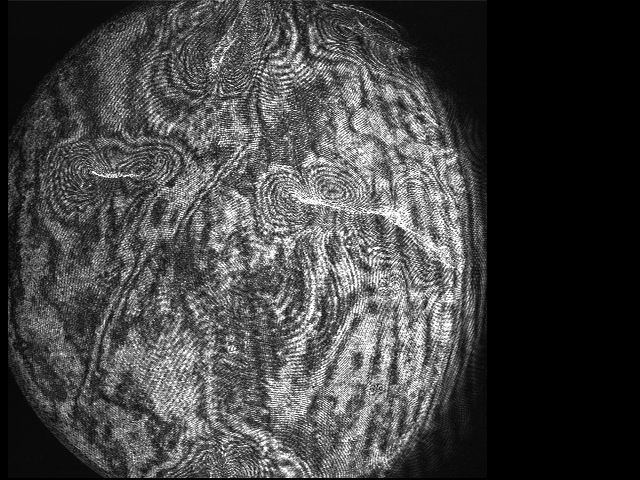plume: (50, 139, 180, 207), (248, 166, 369, 239), (162, 25, 271, 106)
